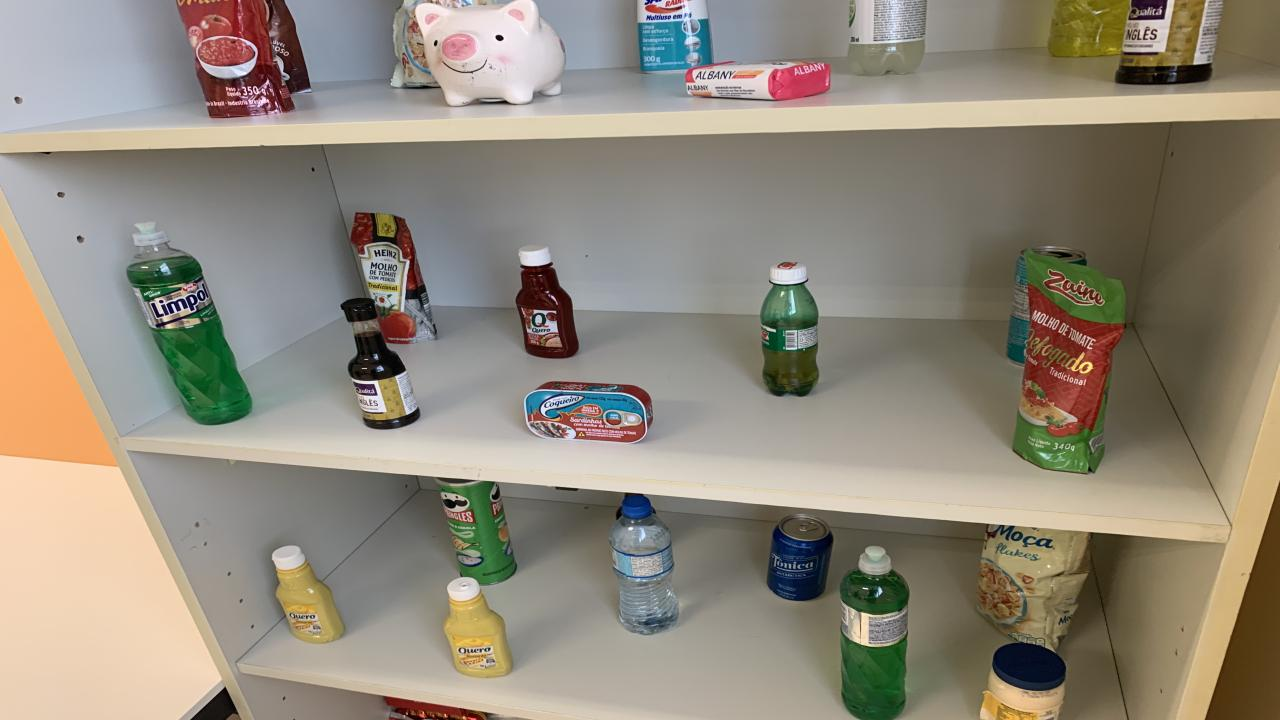Cleaner-Cleanup_Items: (638, 0, 712, 73)
Coffee-Pantry_Items: (265, 0, 312, 94)
Detergent-Cleanup_Items: (128, 223, 252, 424), (840, 546, 910, 720), (1048, 0, 1130, 56)
English_Sauce-Pantry_Items: (340, 298, 420, 429), (1115, 0, 1222, 84)
Flakes-Snacks: (978, 525, 1090, 649), (390, 0, 498, 88)
Guarana-Drinks: (760, 262, 818, 396)
Ketchup-Pantry_Items: (515, 246, 578, 358)
Mayonnaise-Pantry_Items: (980, 643, 1065, 720)
Mustard-Pantry_Items: (272, 546, 345, 643), (445, 578, 512, 677)
Pig_Safe-Miscellaneous: (415, 0, 565, 107)
Pringles-Snacks: (435, 478, 518, 585)
Soap-Cleanup_Items: (685, 62, 830, 99)
Soda-Drinks: (848, 0, 928, 75)
Tea-Drinks: (1005, 255, 1030, 366), (1032, 246, 1088, 266)
Tomato_Sauce-Pantry_Items: (1012, 249, 1125, 472), (178, 0, 292, 118), (350, 212, 438, 343)
Tonic-Drinks: (768, 514, 832, 602)
Tuna_Can-Pantry_Items: (525, 382, 652, 442)
Water_Bottle-Drinks: (610, 495, 678, 634)
